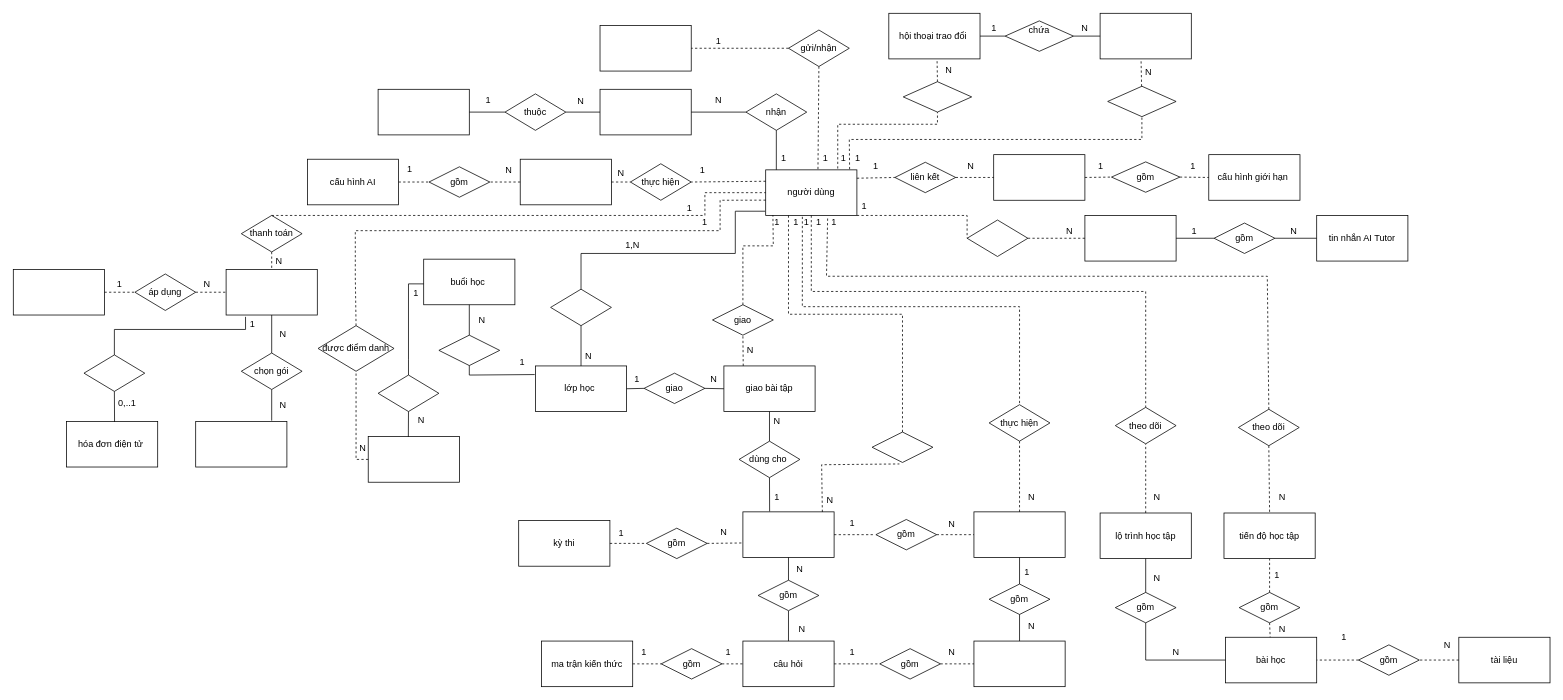
Some shapes in this 1563 by 700 pixel diagram are drawn without their labels. The shapes that lost their labels are listed below. From the top down, each one's centre as x and y in pixels, then its label:
(645,48): cấu hình thông báo
(1145,36): tin nhắn trao đổi
(423,112): thông báo
(645,112): thông báo người nhận
(937,96): mở
(1141,101): gửi
(565,181): log cấu hình AI
(1039,177): liên kết phụ huynh
(997,237): tương tác
(1130,238): hội thoại AI tutor
(58,292): mã giảm giá
(271,292): đơn hàng thanh toán
(580,307): tham gia
(469,350): tổ chức
(114,372): xuất
(408,393): có
(241,444): gói dịch vụ
(413,459): điểm danh
(902,446): tạo
(788,534): đề thi
(1019,534): bài làm
(1019,663): chi tiết bài làm
